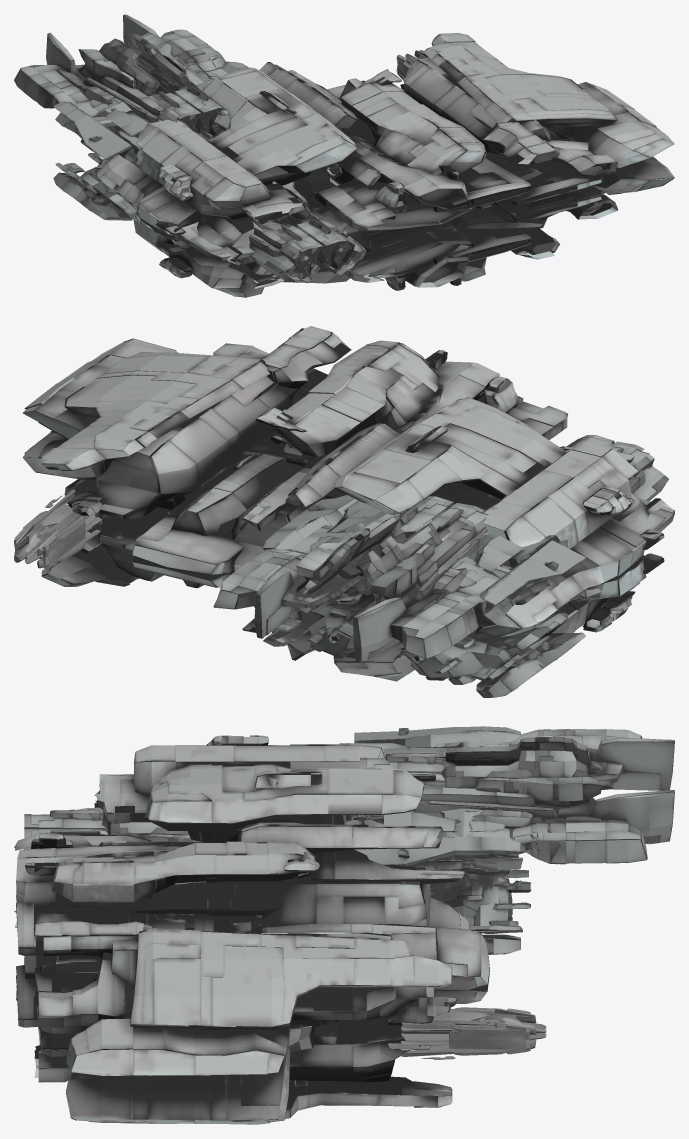
The model's file is MOTHERSHIP_001.fbx.
3 views of the same model, one above another, from view 1: azimuth 30°, elevation 25°; view 2: azimuth 150°, elevation 25°; view 3: azimuth 270°, elevation 25° (orthographic). The views are drawn at different scales.
Visible parts, largest first — view 1: MOTHERSHIP_001; view 2: MOTHERSHIP_001; view 3: MOTHERSHIP_001.
Boxes of the visible parts, <box> form: MOTHERSHIP_001: <box>14,14,674,297</box>; MOTHERSHIP_001: <box>14,326,674,697</box>; MOTHERSHIP_001: <box>14,726,674,1124</box>.
Size of the model in its own units: 110 by 36.2 by 98.52.
